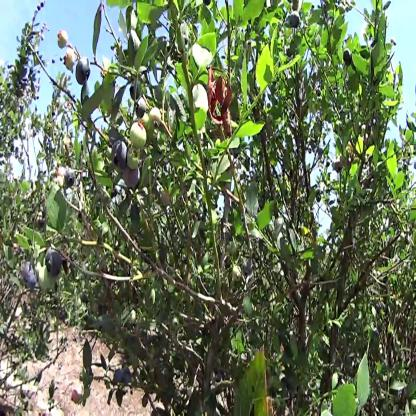intermediate: (64, 48, 76, 71), (71, 386, 84, 405), (57, 31, 71, 48), (58, 167, 67, 187), (161, 190, 171, 206), (335, 160, 343, 175)
mature: (131, 82, 147, 116), (46, 247, 63, 279), (112, 140, 127, 171), (22, 264, 37, 292), (77, 58, 91, 83), (125, 169, 141, 190), (128, 149, 141, 169), (66, 169, 77, 188), (291, 10, 301, 27), (244, 260, 253, 274)
young: (131, 120, 148, 149), (41, 267, 59, 293), (149, 107, 162, 127), (234, 265, 243, 282)
